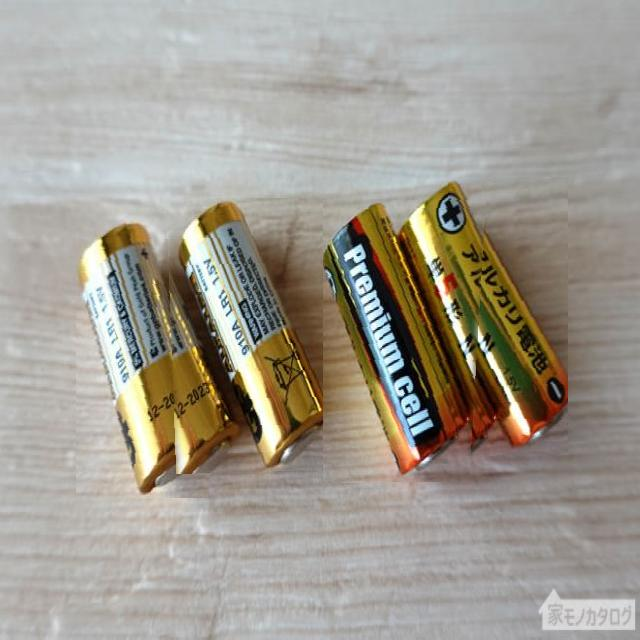battery: (396, 177, 568, 458), (323, 200, 486, 483), (76, 208, 234, 498), (166, 198, 326, 474)
